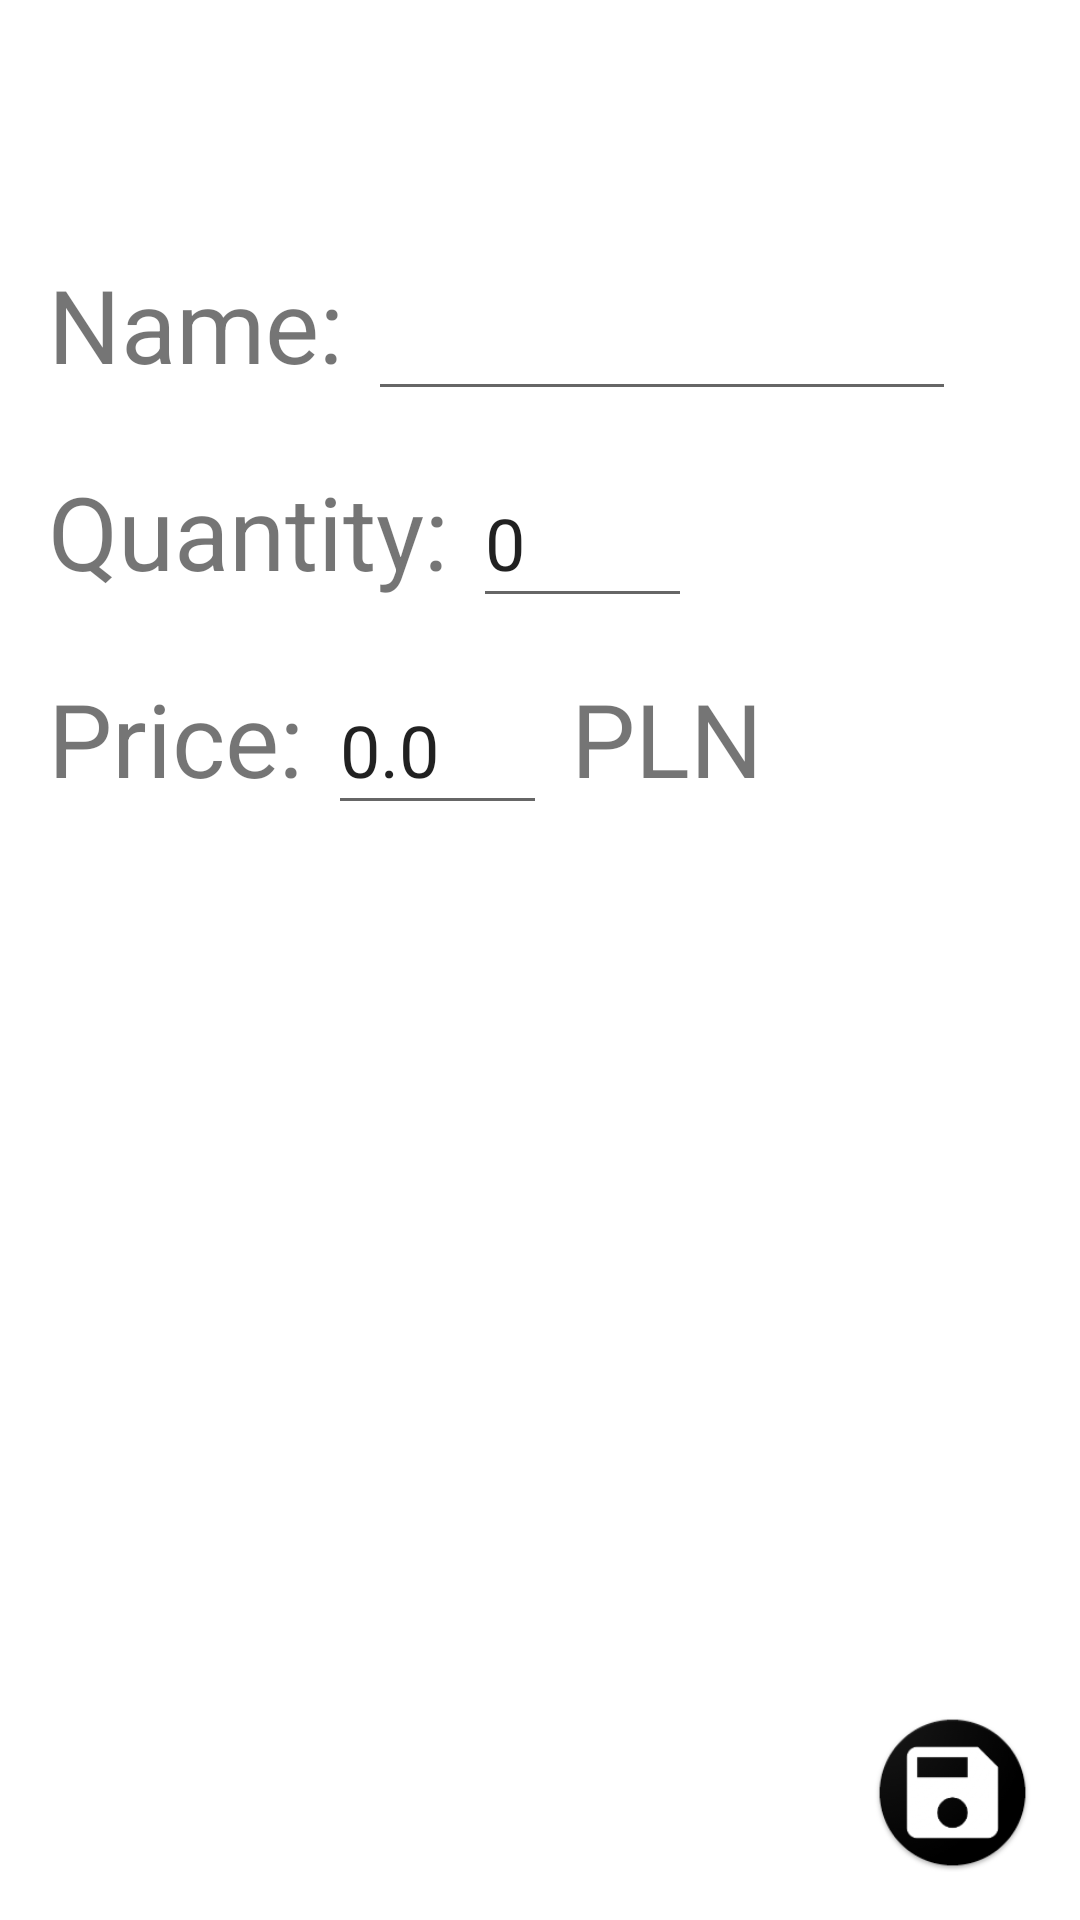

Icon bounding boxes for this 1080w x 1920h phone screenshot, format BBox(x1, y1, x2, y2):
Save button: BBox(879, 1719, 1026, 1869)
